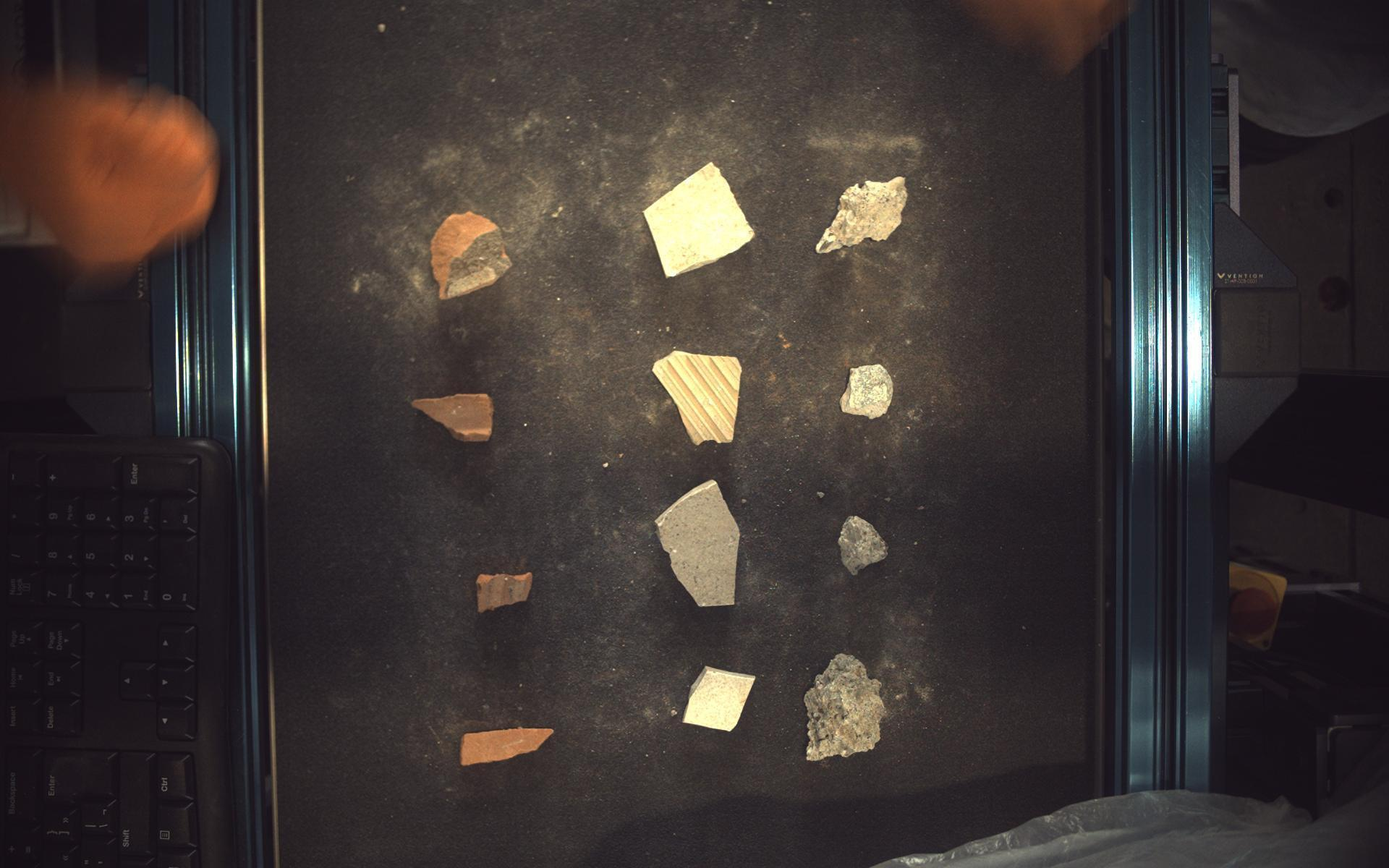brick: (431, 210, 512, 299), (412, 393, 493, 442), (461, 729, 554, 767), (477, 574, 532, 614)
concrete: (806, 656, 888, 762), (817, 176, 909, 252), (840, 516, 890, 576), (843, 365, 895, 419)
tile: (645, 162, 755, 276), (656, 480, 742, 608), (653, 350, 742, 446), (684, 668, 756, 732)
